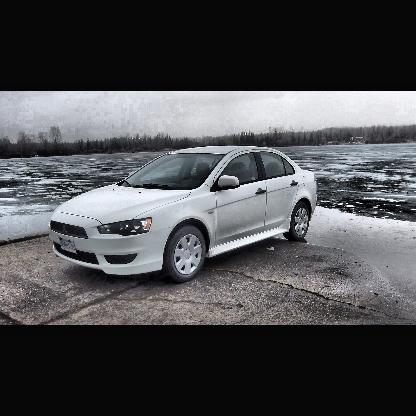Mitsubishi Lancer Sedan 2012: (49, 146, 320, 280)
